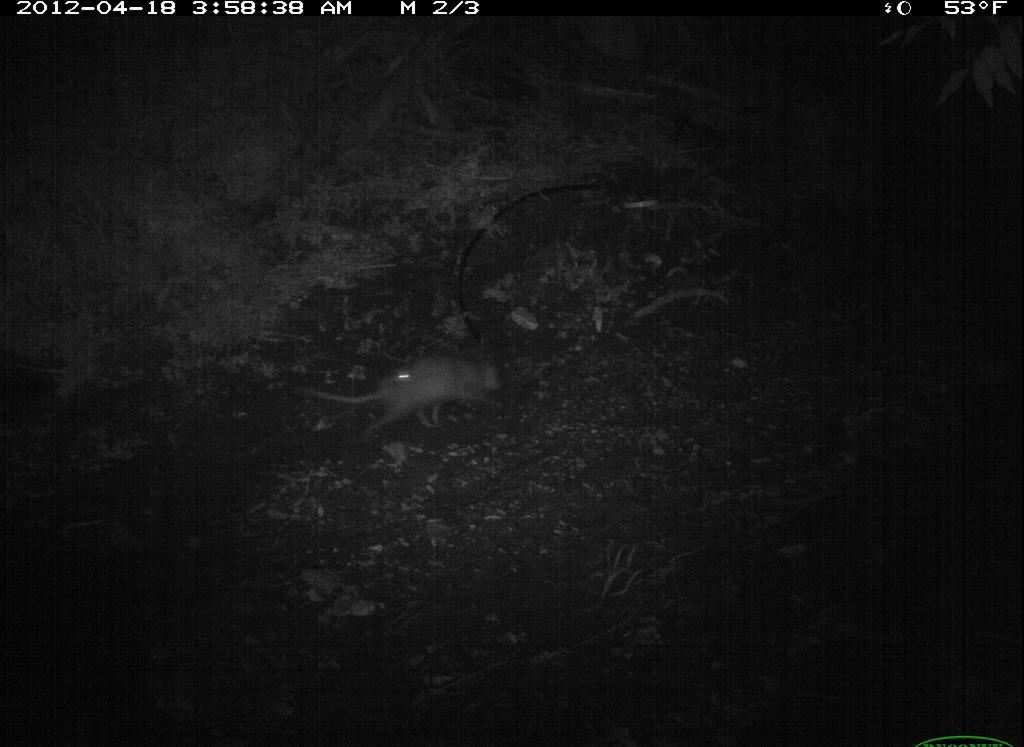opossum: (273, 340, 509, 457)
